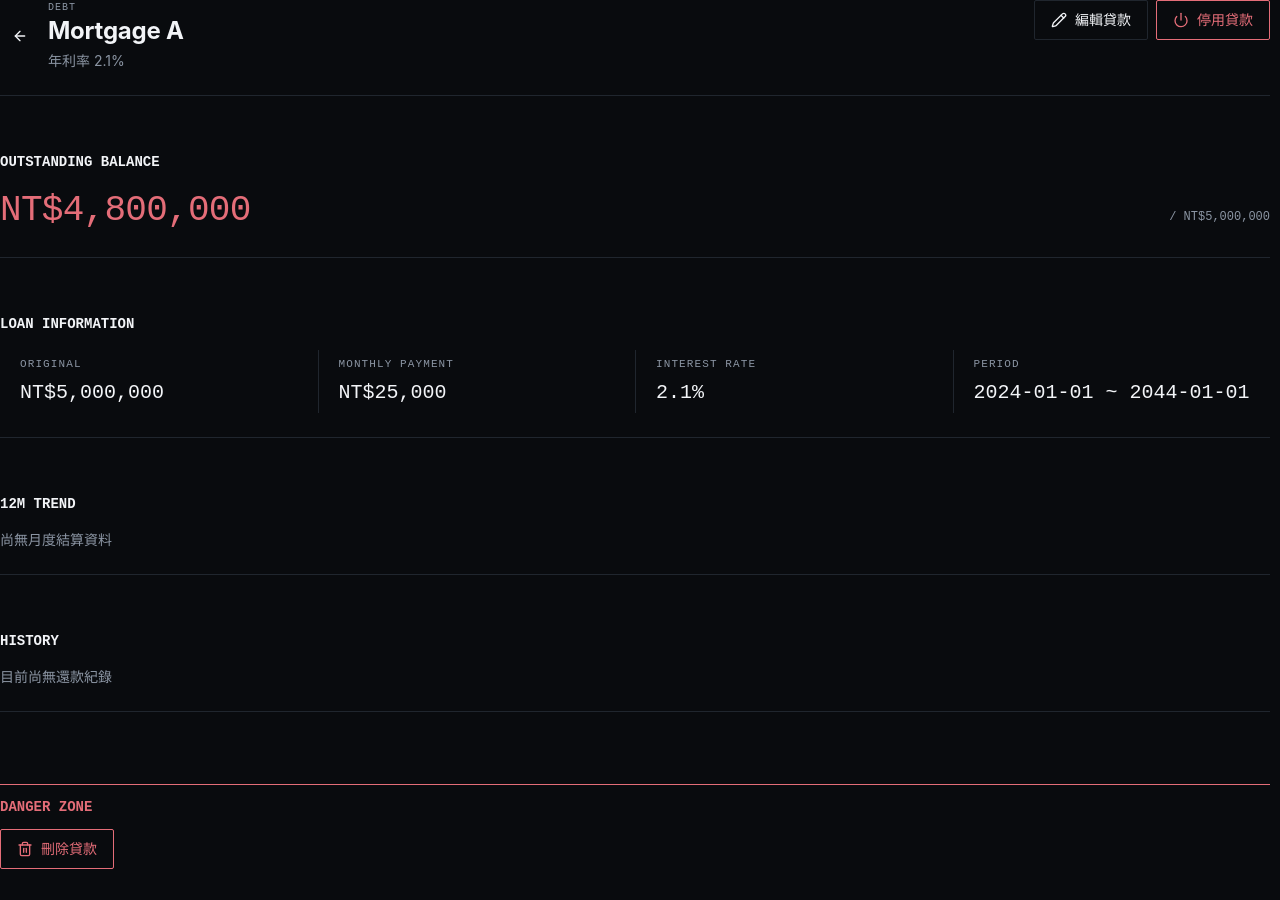
Test: DebtDetailPage header actions › opens the edit dialog with the loan data
The image size is (1280, 900).
What coordinates should you click on to do the following:
click the button "編輯貸款"
I would click on:
 (1091, 20)
Its box is [1034,0,1148,40].
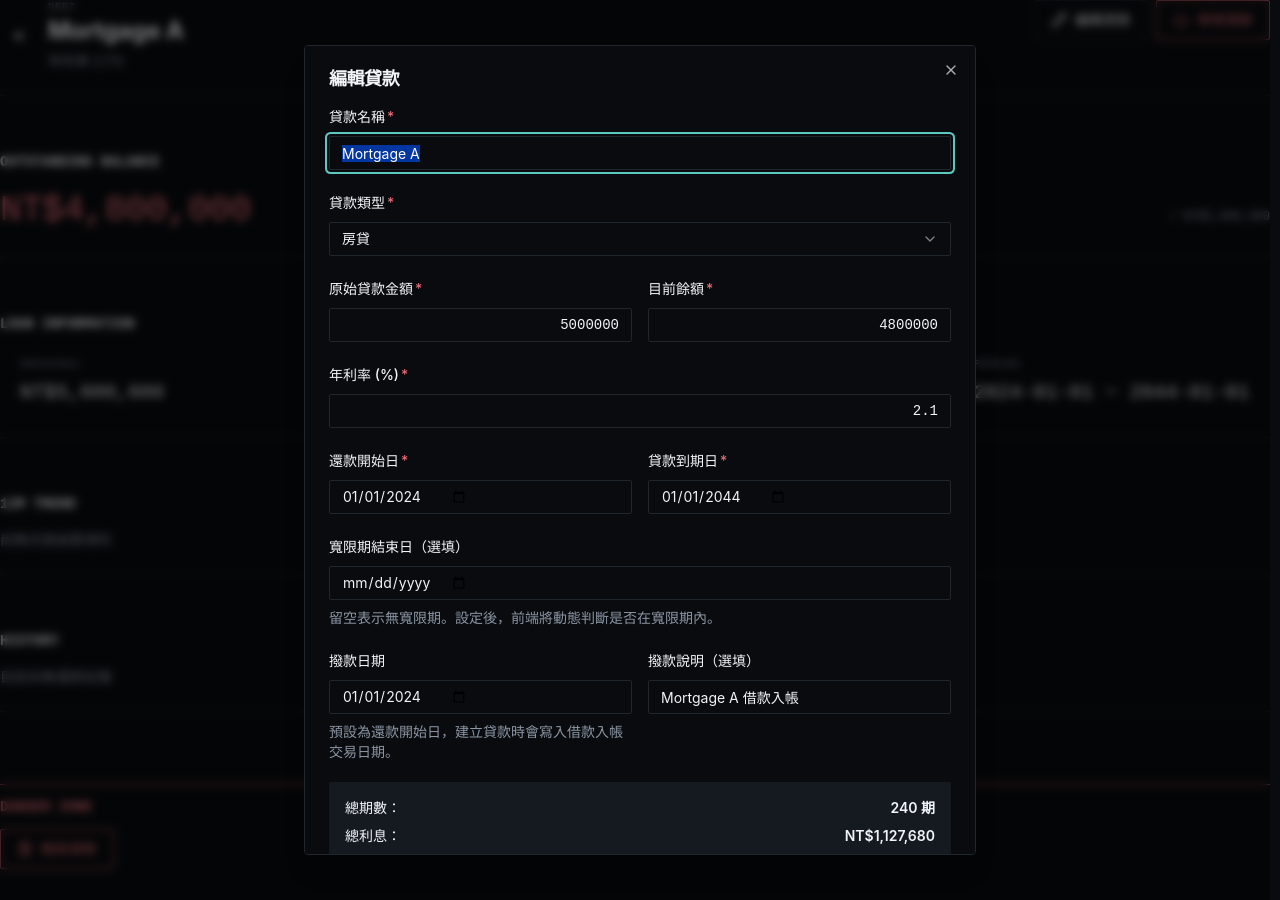
Expected: the dialog is shown, [304,45,976,855]
